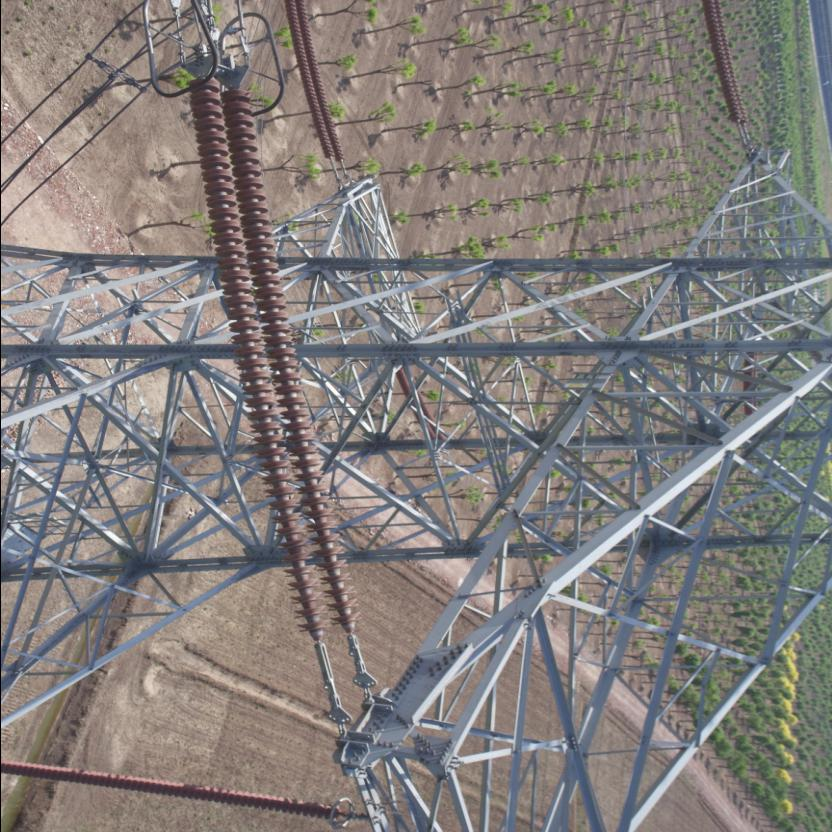insulator: (187, 67, 365, 658), (286, 0, 352, 174), (704, 1, 752, 127)
